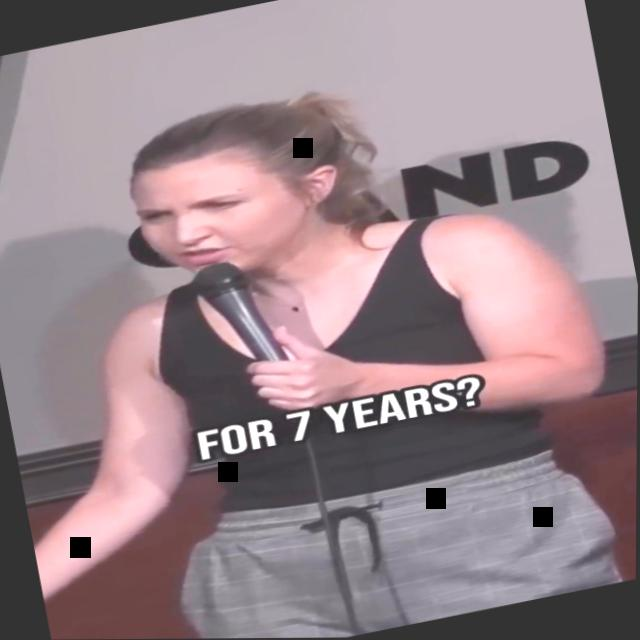NO-Mask: (121, 130, 336, 303)
